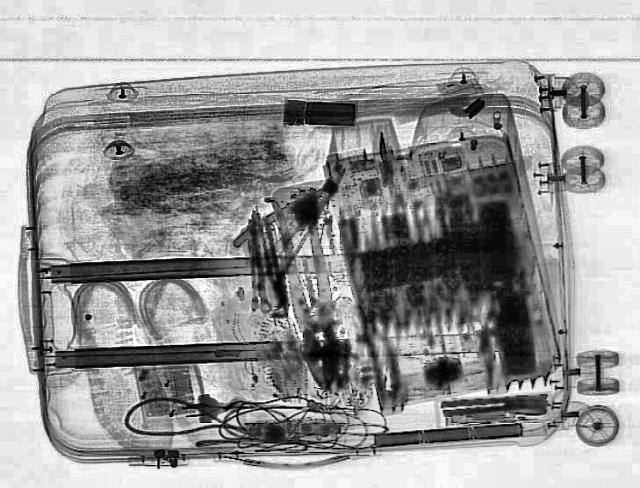Pliers: (274, 194, 346, 394)
